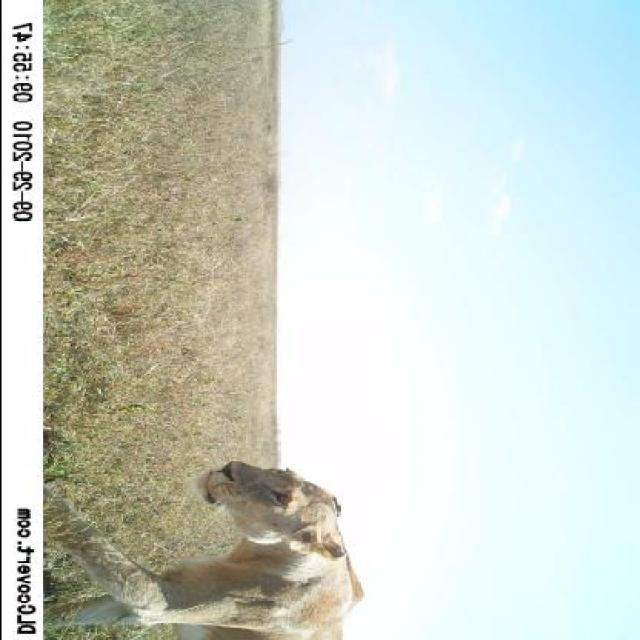Lion: (45, 422, 392, 630)
